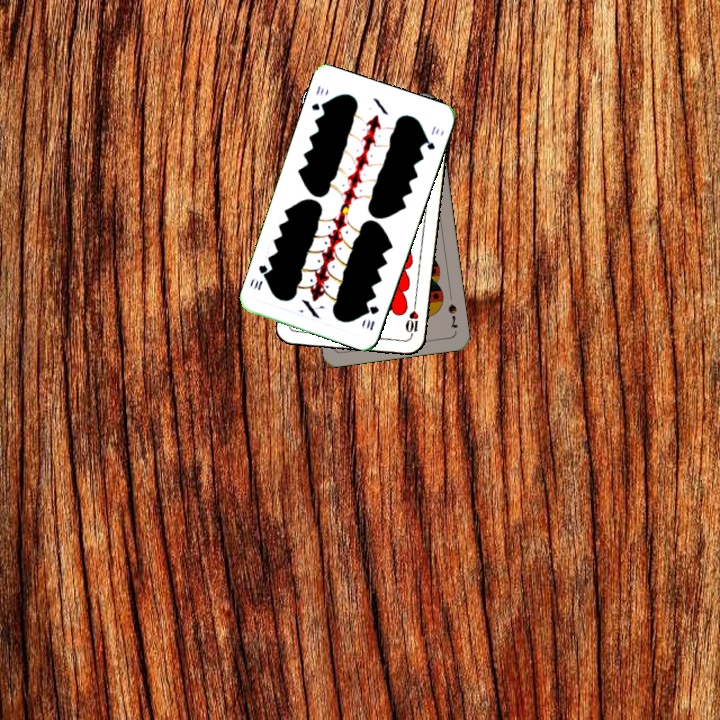G10: (307, 81, 328, 114), (362, 302, 381, 333)
H10: (401, 300, 421, 341)
S7: (444, 300, 461, 331)
